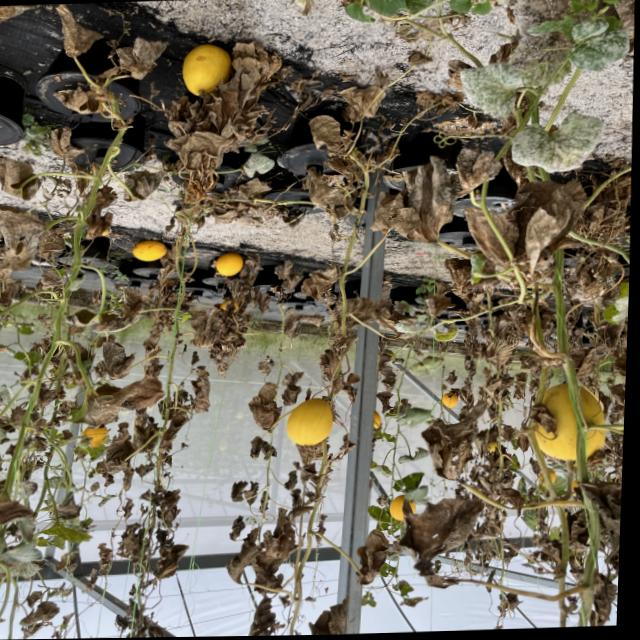bacterial wilt: (374, 169, 462, 257), (64, 371, 171, 433), (398, 502, 476, 568), (421, 418, 488, 485), (460, 195, 520, 265), (524, 199, 584, 260), (121, 414, 204, 458), (60, 299, 143, 341), (454, 142, 516, 196), (300, 341, 367, 388), (84, 337, 142, 385), (185, 360, 229, 420), (343, 81, 405, 118), (305, 595, 357, 635), (355, 534, 400, 580), (0, 202, 42, 249), (372, 349, 411, 399), (303, 117, 351, 156), (235, 589, 274, 636), (123, 168, 168, 208), (247, 386, 284, 431), (0, 158, 40, 197), (221, 539, 260, 578), (0, 309, 17, 359)
powdery mildew: (446, 48, 567, 116), (494, 110, 612, 176)
